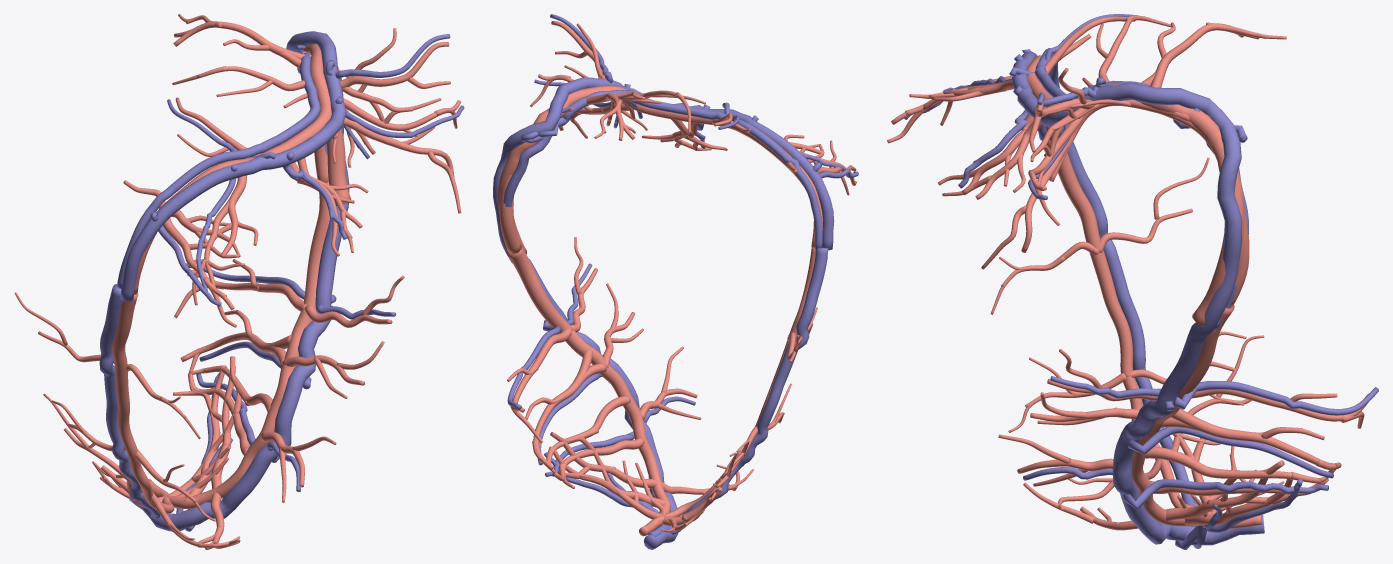
The model's file is vessels_41.glb.
The picture shows the model from 3 angles, left to right: view 1: azimuth 30°, elevation 25°; view 2: azimuth 150°, elevation 25°; view 3: azimuth 270°, elevation 25°; orthographic projection. The views are drawn at different scales.
Parts seen in each view (by area): view 1: Renderer Node; view 2: Renderer Node; view 3: Renderer Node.
Boxes of the visible parts, x1,y1,x2,y2 form: Renderer Node: (14, 14, 464, 549); Renderer Node: (493, 14, 858, 549); Renderer Node: (887, 14, 1378, 549).
Bounding box in the file's own units: 94.61 × 122 × 95.3.
